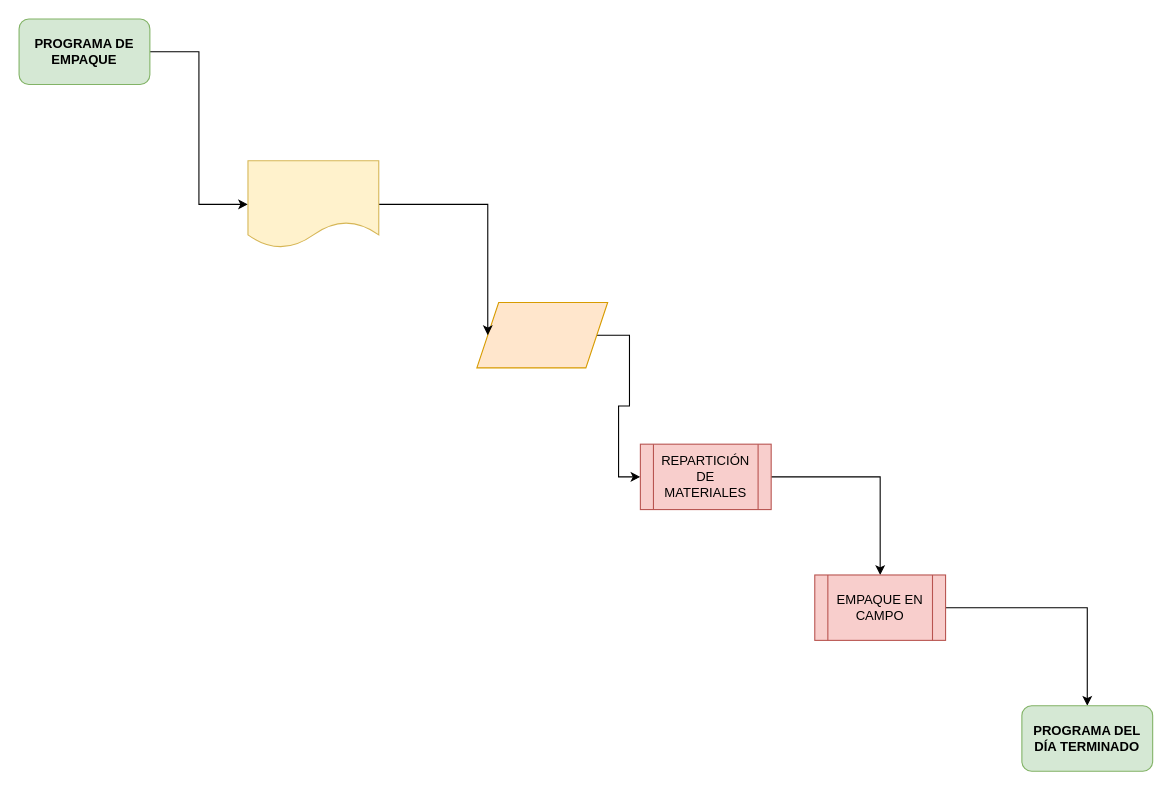
Some shapes in this 1172 by 790 pixel diagram are drawn without their labels. The centre of each missing label's shape, as x and y in pixels:
CAPTURA EN SISTEMA: the point at 542,334
FORMULARIO DE PROGRAMA DE EMPAQUE: the point at 313,204
